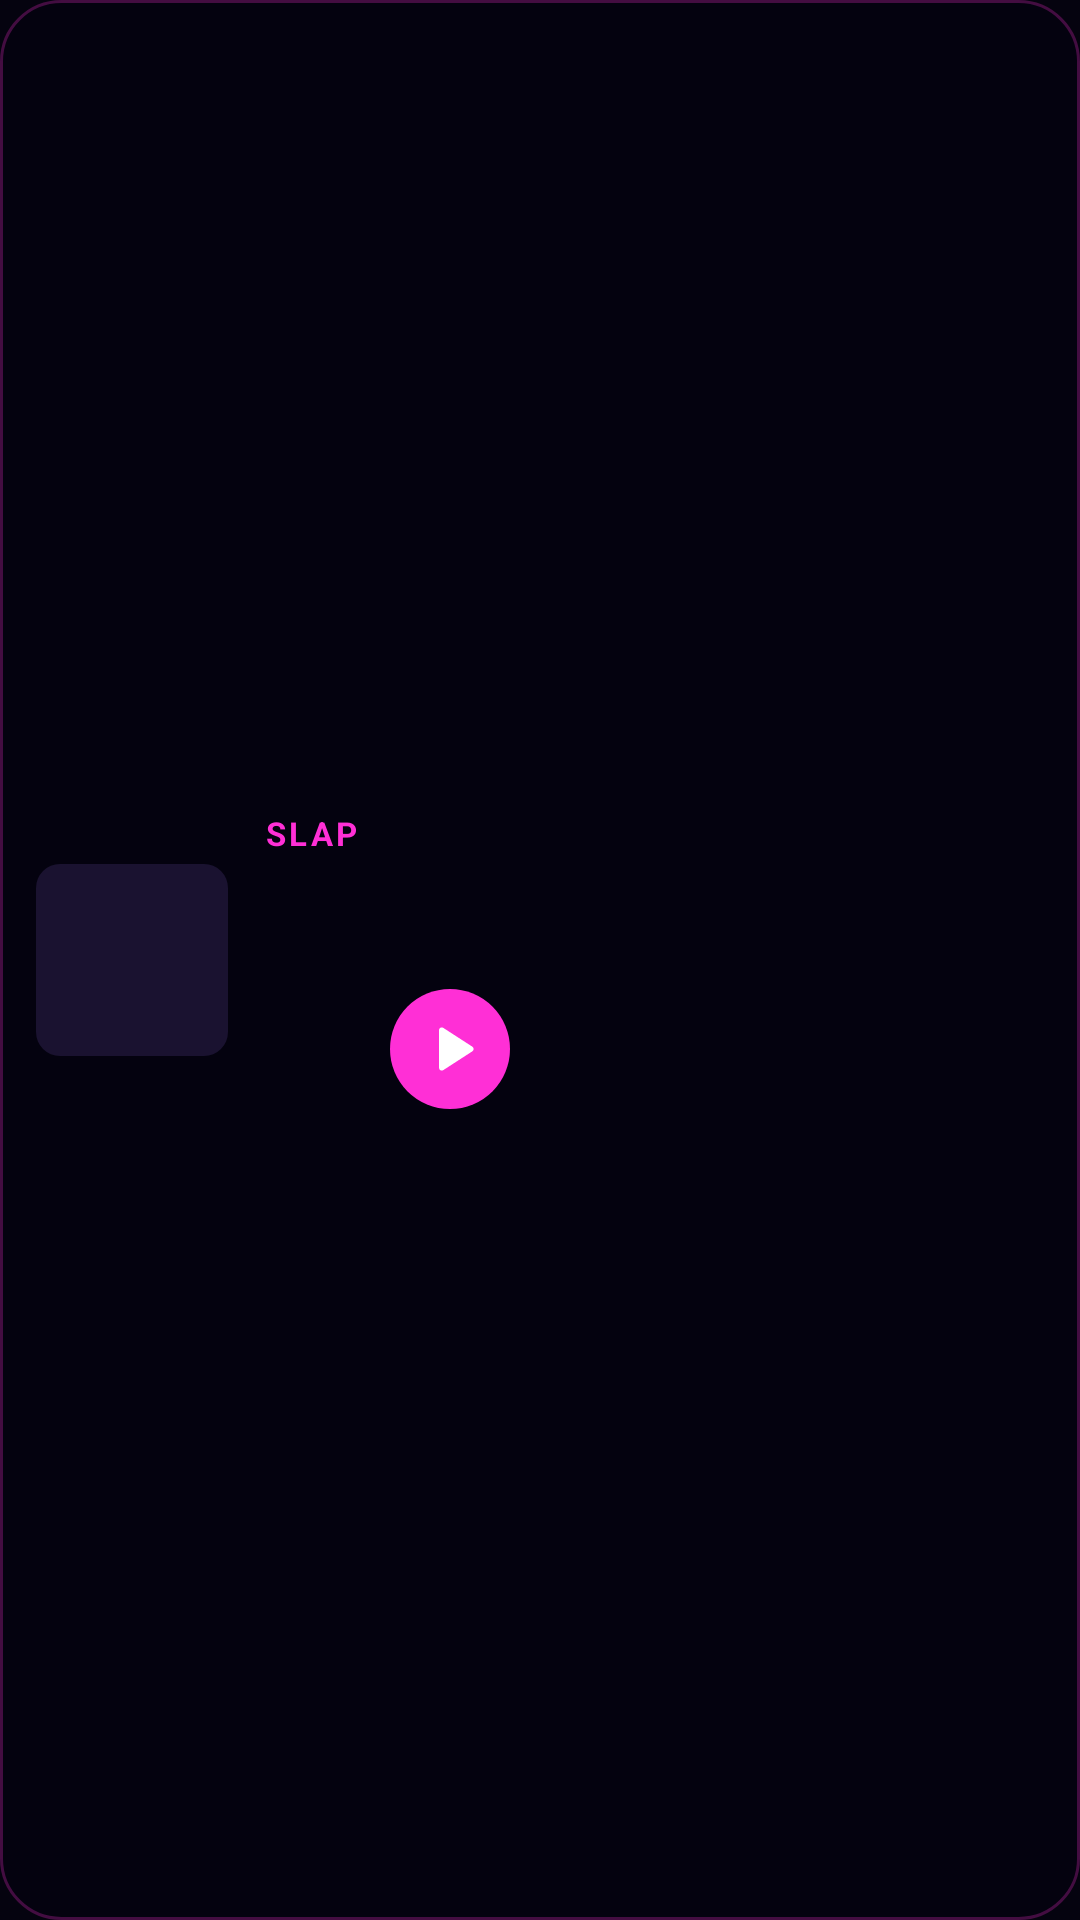

Named icons in this screenshot (1080 × 1920) and their bounding boxes, [x1=x1, y1=y1, x2=x2, y2=y2]:
Play or pause: [x1=390, y1=989, x2=510, y2=1109]
